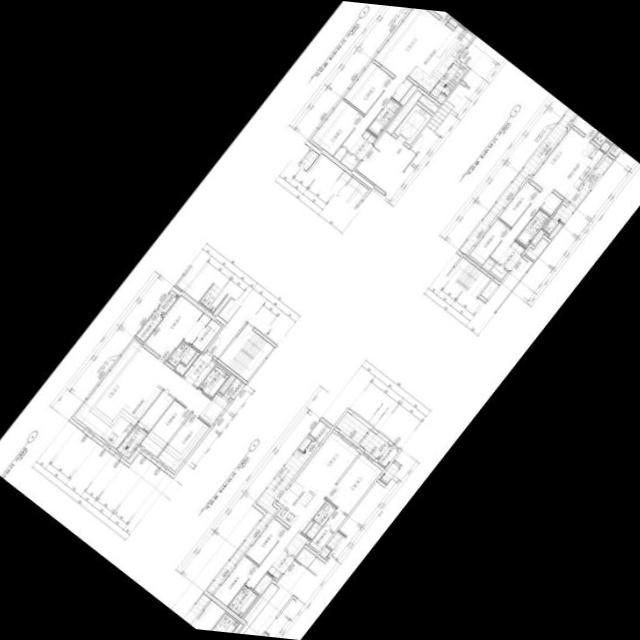background: (0, 0, 640, 640)
space_balconi: (205, 440, 317, 593), (458, 108, 575, 254), (542, 154, 612, 233), (334, 411, 388, 459), (429, 63, 464, 97), (115, 424, 146, 458), (135, 308, 162, 341)
space_bedroom: (143, 295, 202, 360), (325, 453, 381, 514), (156, 413, 208, 471), (310, 99, 362, 155), (139, 399, 189, 456), (342, 61, 392, 113), (212, 555, 257, 605), (468, 218, 509, 264), (245, 518, 286, 564), (498, 181, 538, 226)
space_dressroom: (308, 508, 345, 551), (183, 312, 220, 351)
space_elevator: (393, 103, 430, 144)
space_elevator_hall: (354, 130, 414, 192)
space_front: (181, 351, 211, 384), (347, 129, 375, 159), (496, 240, 524, 270), (266, 549, 293, 578)
space_kitchen: (99, 376, 162, 448), (407, 24, 472, 92), (553, 142, 603, 200), (275, 478, 314, 526)
space_living_room: (244, 431, 358, 588), (340, 8, 446, 151), (73, 339, 227, 436), (489, 127, 589, 261)
space_other: (384, 89, 421, 134), (136, 390, 173, 431), (192, 360, 214, 387), (173, 351, 198, 374), (523, 237, 547, 260), (284, 531, 306, 555), (539, 192, 561, 215), (308, 420, 330, 442), (391, 78, 412, 101), (222, 377, 243, 399), (479, 279, 498, 300), (252, 573, 271, 594), (417, 94, 438, 112), (339, 152, 357, 170), (218, 374, 234, 393), (489, 262, 506, 279), (547, 222, 561, 239), (297, 436, 310, 451), (332, 146, 345, 160), (530, 229, 543, 243), (127, 445, 139, 460), (481, 257, 494, 270), (608, 144, 620, 156), (301, 520, 312, 533), (599, 140, 609, 151), (447, 17, 457, 27), (435, 92, 444, 102)
space_outdoor_room: (376, 445, 397, 467), (157, 290, 177, 313)
space_staircase: (217, 324, 272, 380)
space_toilet: (366, 98, 399, 136), (515, 208, 548, 246), (304, 500, 335, 539), (226, 584, 257, 617), (197, 365, 228, 397), (165, 339, 195, 366), (591, 131, 612, 145)
